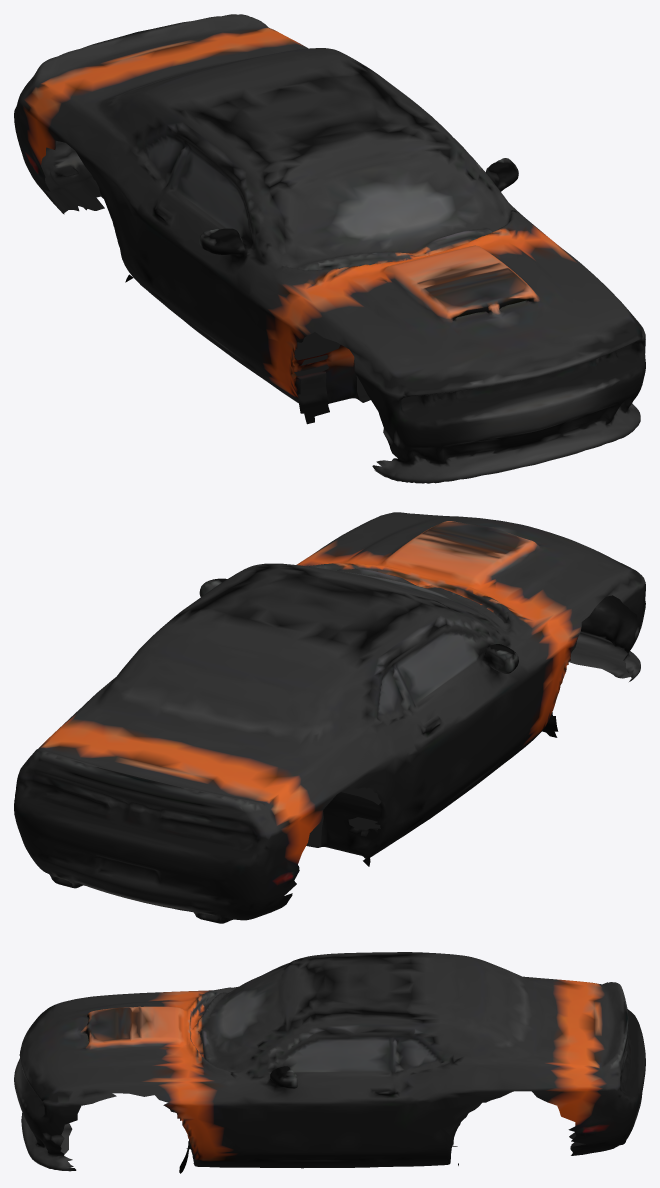
File: muscle_car.glb
3 views of the same model, one above another, from view 1: azimuth 30°, elevation 25°; view 2: azimuth 150°, elevation 25°; view 3: azimuth 270°, elevation 25° (orthographic). The views are drawn at different scales.
Visible parts, largest first — view 1: geometry_0; view 2: geometry_0; view 3: geometry_0.
Part boxes in pixels (x1,y1,x2,y2): geometry_0: (14, 14, 645, 483); geometry_0: (14, 512, 645, 923); geometry_0: (14, 952, 645, 1173).
Size of the model in its own units: 2.07 by 1.23 by 4.8.
